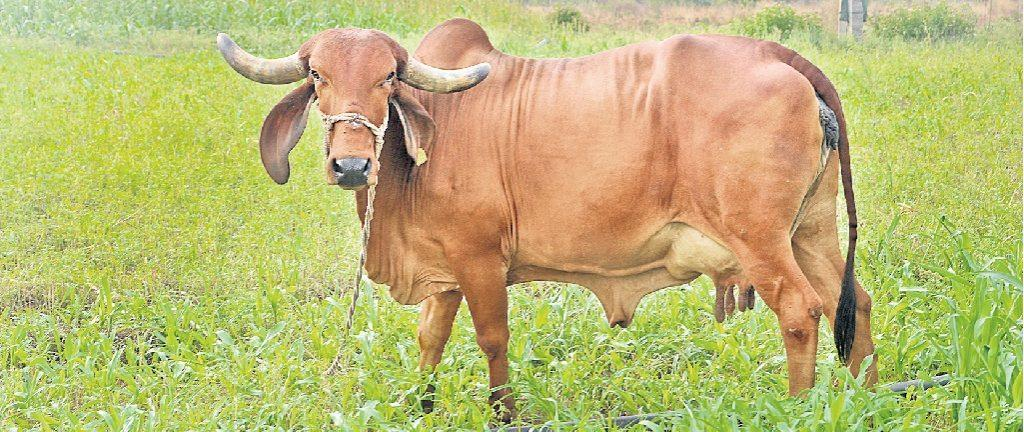cow: (219, 18, 873, 419)
